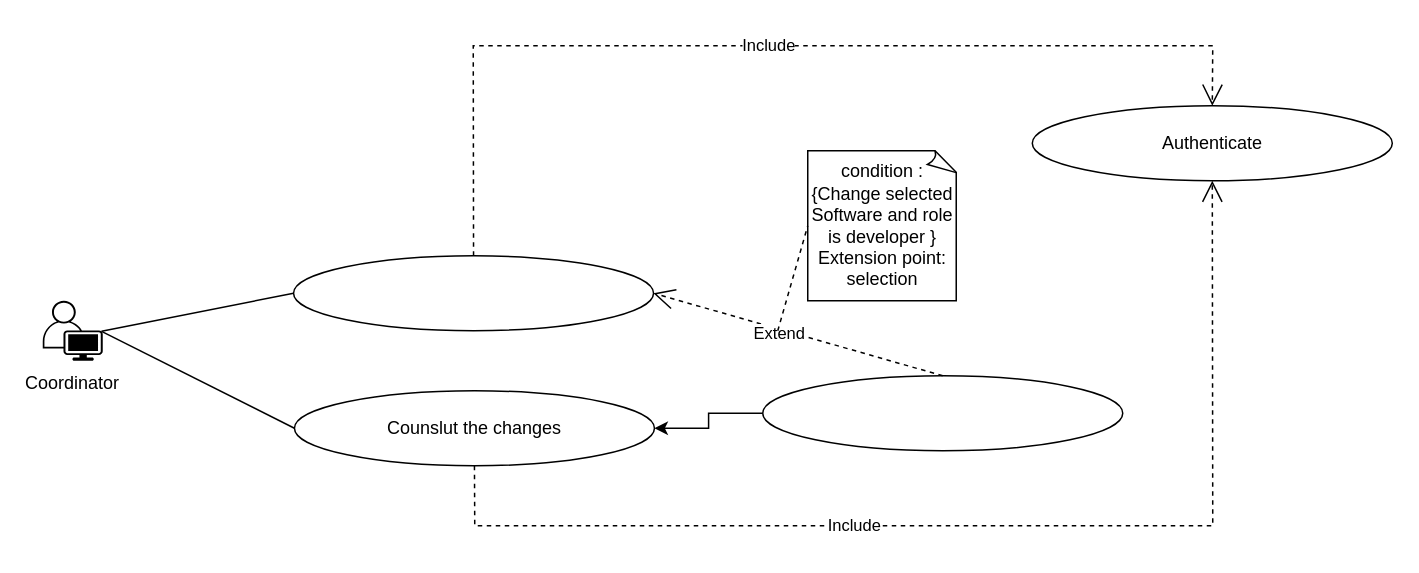
The diagram is 1419 pixels wide and 573 high, and some of its shapes have lost their labels. The centre of each missing label's shape, as x and y in pixels:
Get Change Type: (x=942, y=412)
Modify the status of tasks.: (x=473, y=292)
